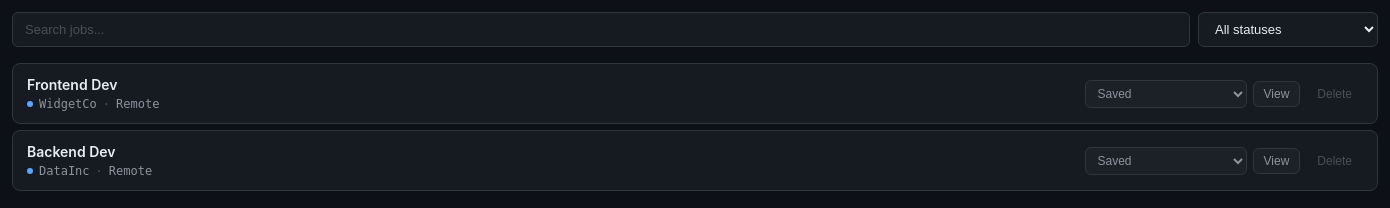
Test: JobsTab › filters jobs by company name
Type "DataInc" into the field with placeholder "Search jobs..." at (601, 30), box [12,12,1190,47]
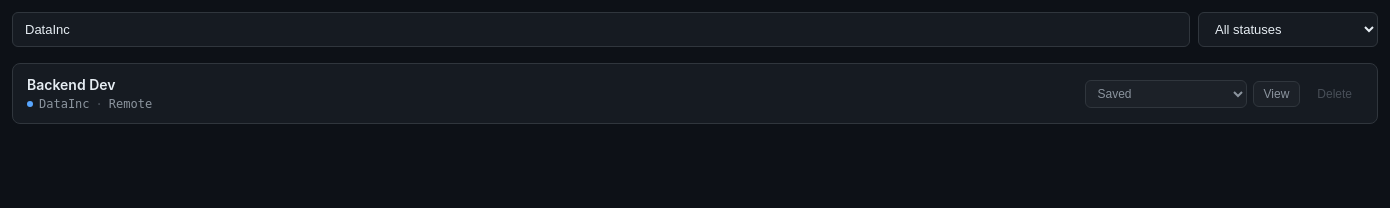
Check: the text "Backend Dev" is shown, box [27,76,116,93]
Check: the text "Frontend Dev" is gone
